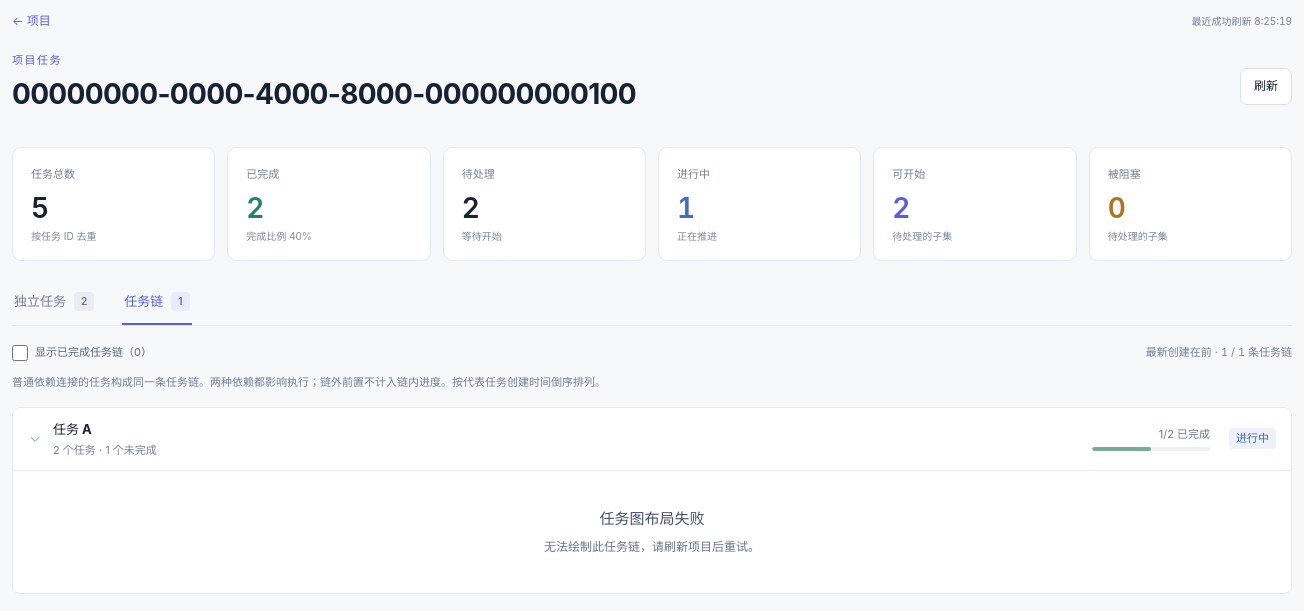
Test: project task views › classifies complete dependencies independently from status and keeps summary and API order intact
Check: the tab "任务链 1" is shown, box [122,291,192,325]
Check: the number of buttons with class "root-toggle" is 1, box [13,408,1291,470]
Click the tab "独立任务 2".
click(54, 308)  # box [12,291,96,325]
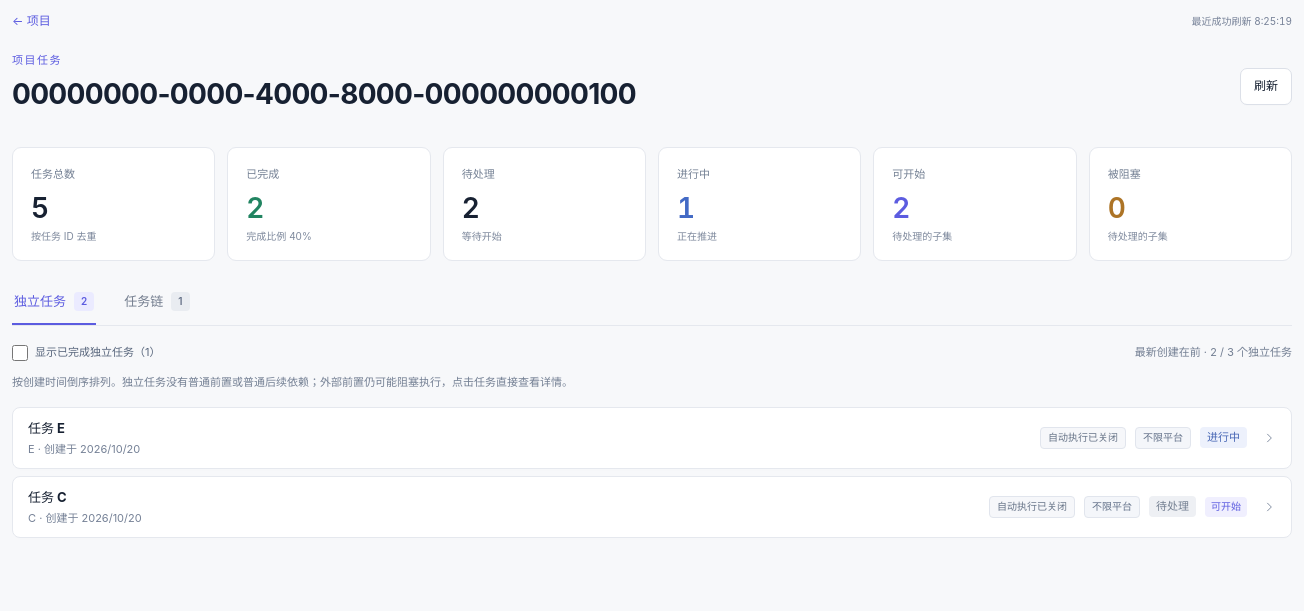
Check: the checkbox labelled "显示已完成独立任务（1）" is not checked, box [12,345,28,361]
Check: the button with class "standalone-row" shows "可开始", box [12,476,1292,538]
Check: the button with class "standalone-row" shows "进行中", box [12,407,1292,469]
